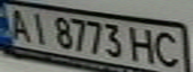3: (103, 20, 127, 60)
7: (84, 18, 106, 54), (66, 16, 87, 52)
8: (48, 14, 72, 50)
A: (3, 6, 33, 42)
C: (148, 29, 187, 70)
H: (127, 25, 160, 64)
I: (24, 10, 51, 45)
